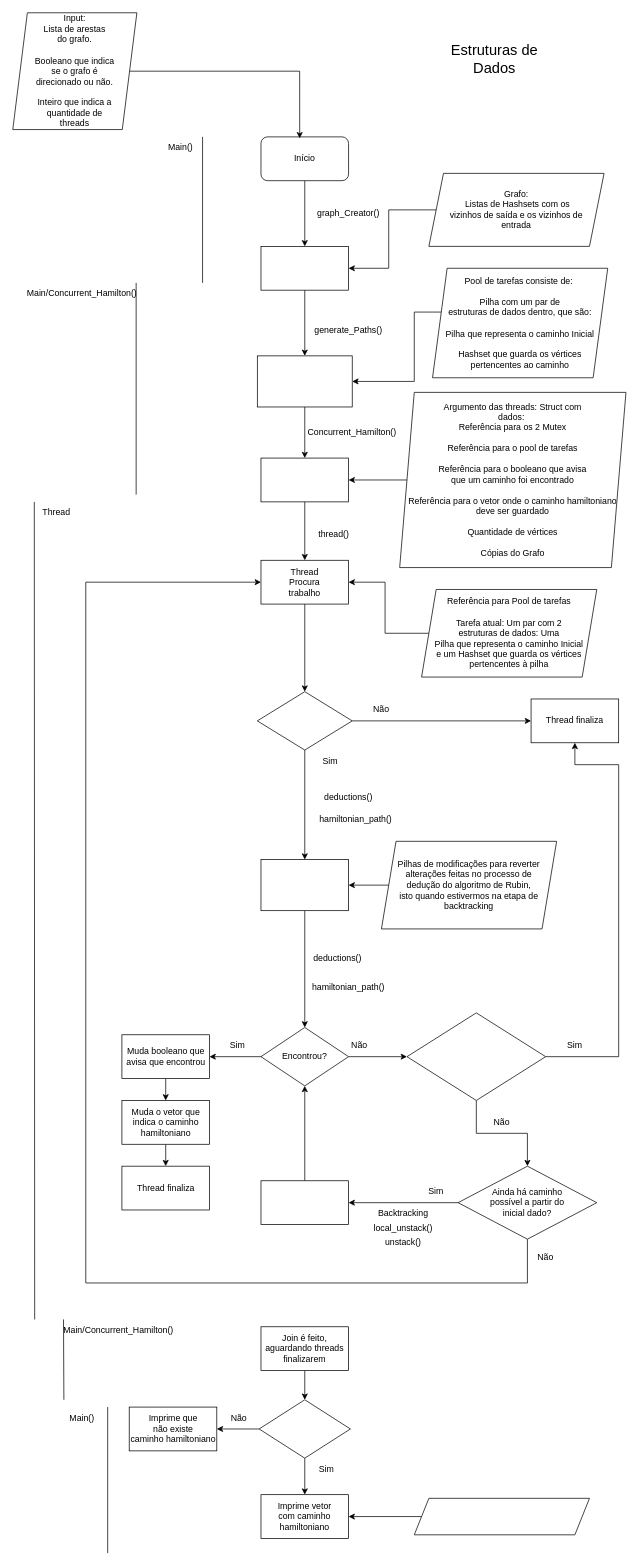
Image size: 639x1567. Some labels were removed from this diagram. The box of each missing label's shape, as (x1, y1, x2, y2) in pixels:
Alguma outra thread encontrou?: (406, 1012, 546, 1100)
Criação das threads e dos argumentos que elas terão: (260, 457, 349, 502)
Geração de caminhos Iniciais para o pool de tarefas: (257, 355, 352, 407)
Há caminho Hamiltoniano?: (258, 1399, 350, 1458)
Há trabalho?: (257, 691, 352, 750)
Inicialização do grafo: (260, 246, 349, 290)
Tentar esse caminho: (260, 1180, 349, 1225)
Thread procura caminho hamiltoniano a partir de caminho inicial dado: (260, 859, 349, 911)
Vetor com caminho hamiltoniano: (414, 1498, 589, 1535)
